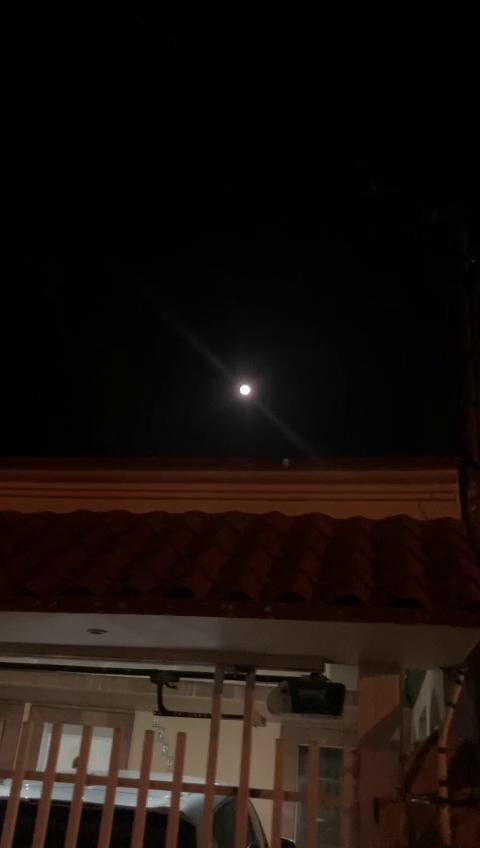moon: (236, 378, 255, 401)
